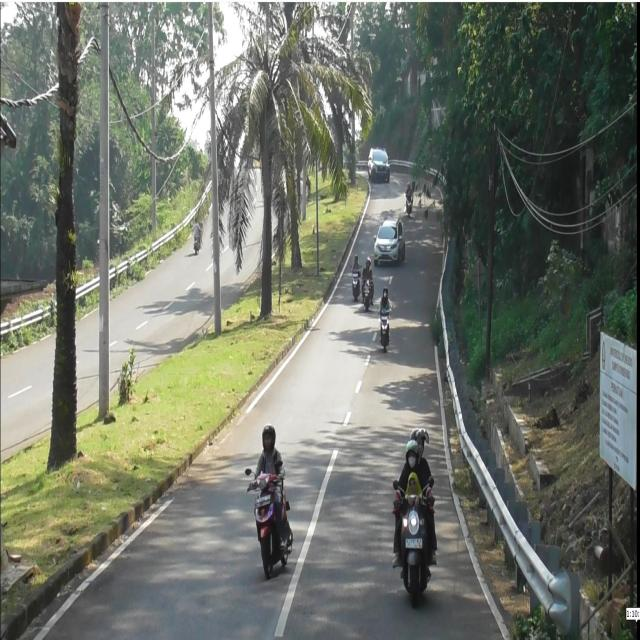motorcycle: (242, 461, 297, 572), (394, 478, 437, 594), (378, 306, 391, 355), (349, 270, 361, 300), (362, 278, 371, 313), (406, 195, 412, 216)
person: (251, 416, 285, 506), (395, 440, 434, 506), (402, 472, 427, 503), (408, 426, 430, 459), (378, 287, 392, 314), (362, 257, 372, 283), (352, 255, 362, 276), (405, 182, 413, 198)
rider_region: (390, 418, 441, 604), (245, 420, 293, 578), (375, 280, 393, 354), (362, 254, 374, 312), (348, 249, 361, 296), (404, 182, 414, 216)
